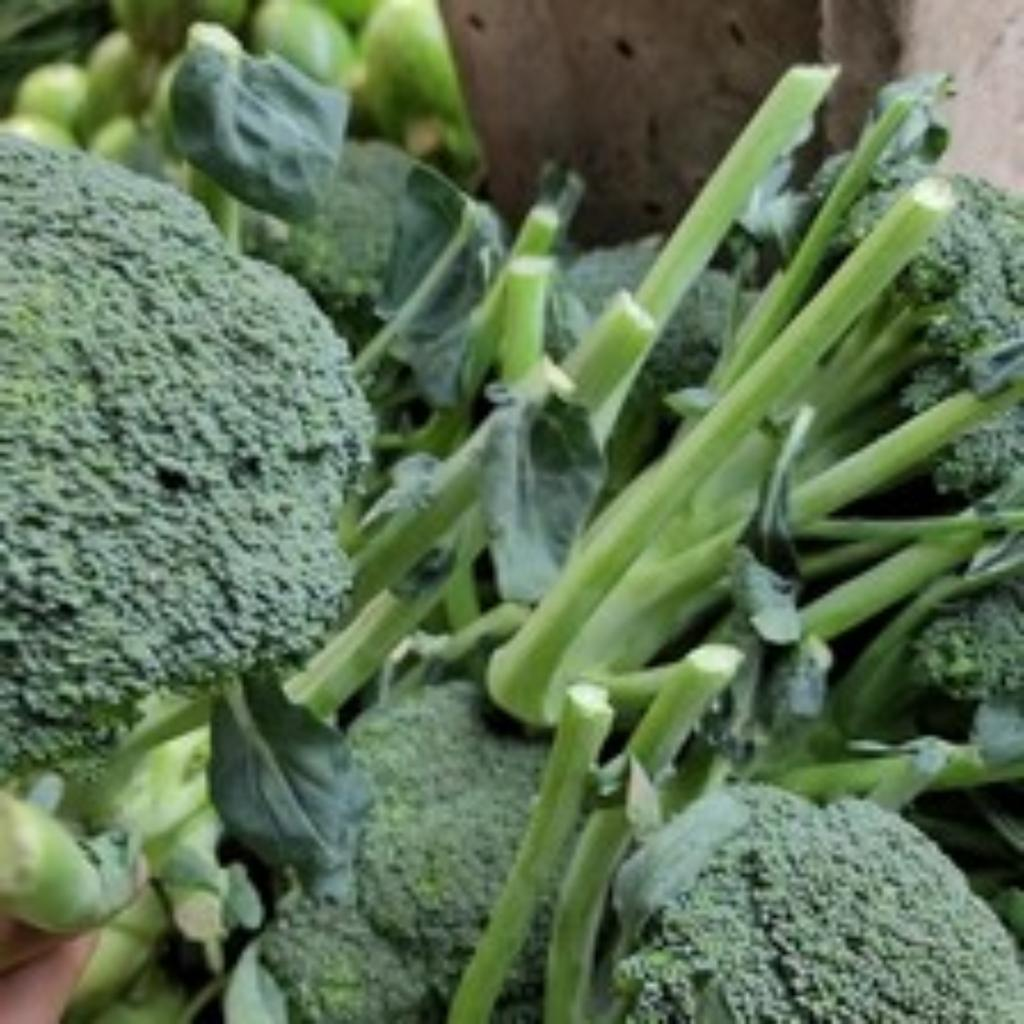Broccoli: (0, 140, 372, 779), (6, 140, 372, 777), (262, 680, 546, 1024), (620, 786, 1024, 1024), (904, 176, 1024, 409), (906, 176, 1024, 409), (938, 457, 1024, 495), (938, 456, 1003, 495)
